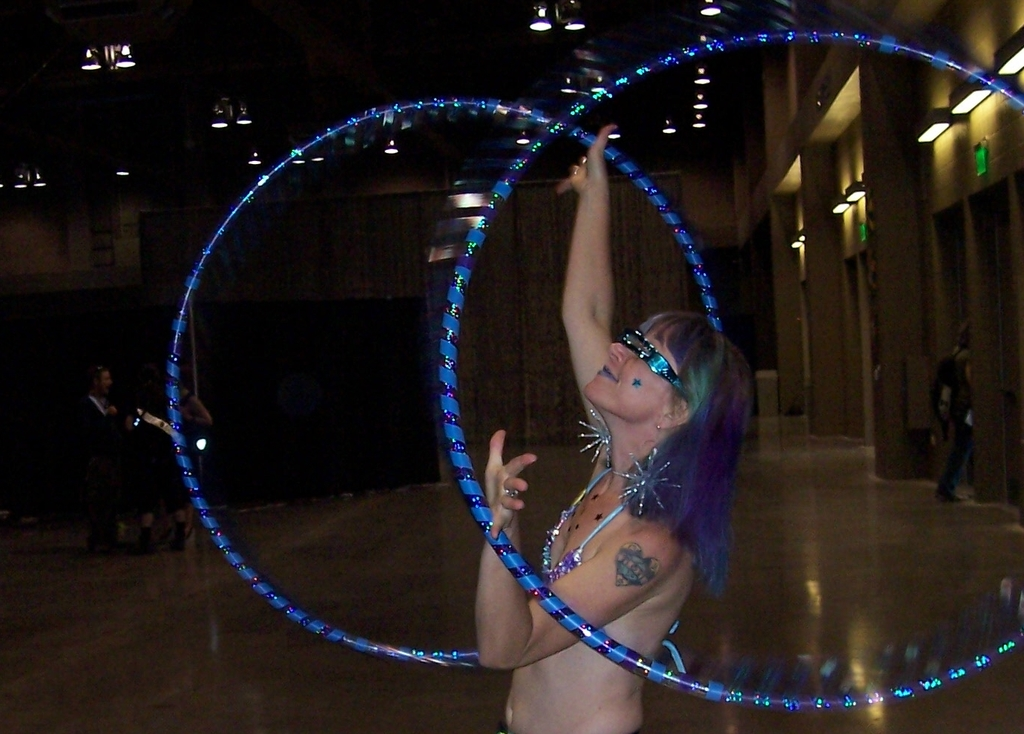Person: (83, 124, 973, 734)
